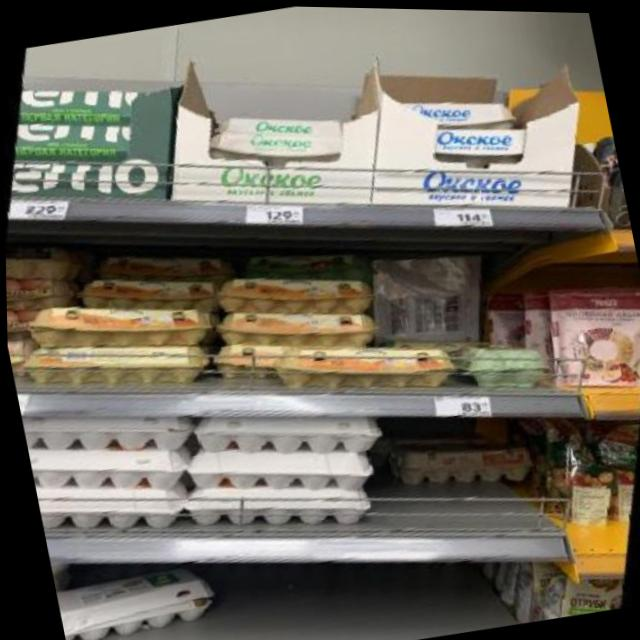Egg: (255, 309, 467, 420), (17, 270, 219, 378), (514, 402, 640, 543), (203, 280, 386, 375), (205, 250, 383, 341), (522, 268, 640, 404), (377, 415, 541, 506), (195, 104, 356, 189), (65, 254, 220, 335), (85, 230, 239, 306), (230, 227, 378, 302), (387, 74, 530, 151), (205, 88, 354, 156), (515, 554, 630, 622), (422, 108, 532, 179), (468, 280, 547, 356), (585, 103, 631, 233), (461, 335, 548, 397), (4, 228, 88, 291), (5, 263, 86, 325), (6, 332, 40, 379), (5, 303, 37, 347)
